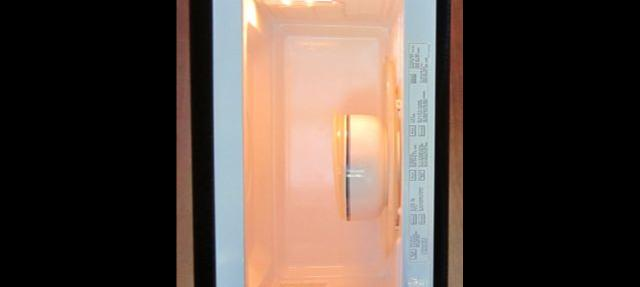controlled_fire: (243, 0, 407, 287)
